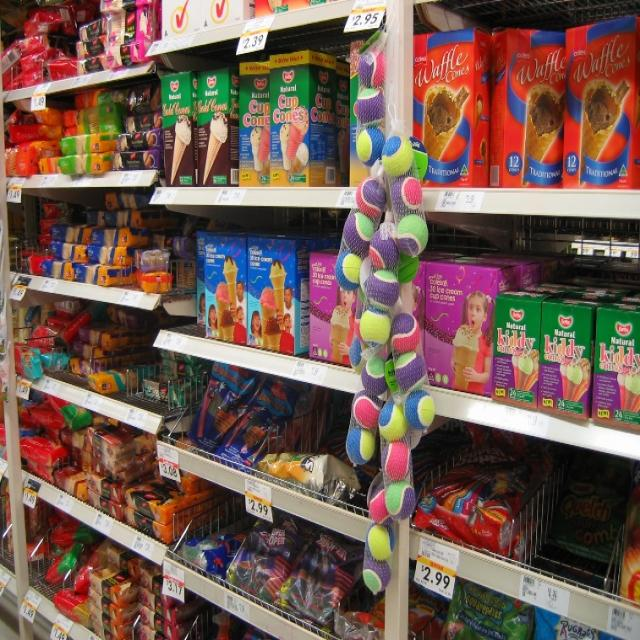q10: (190, 62, 237, 182), (156, 71, 198, 189)
q106: (490, 26, 572, 192), (412, 27, 487, 194), (570, 12, 640, 190)
